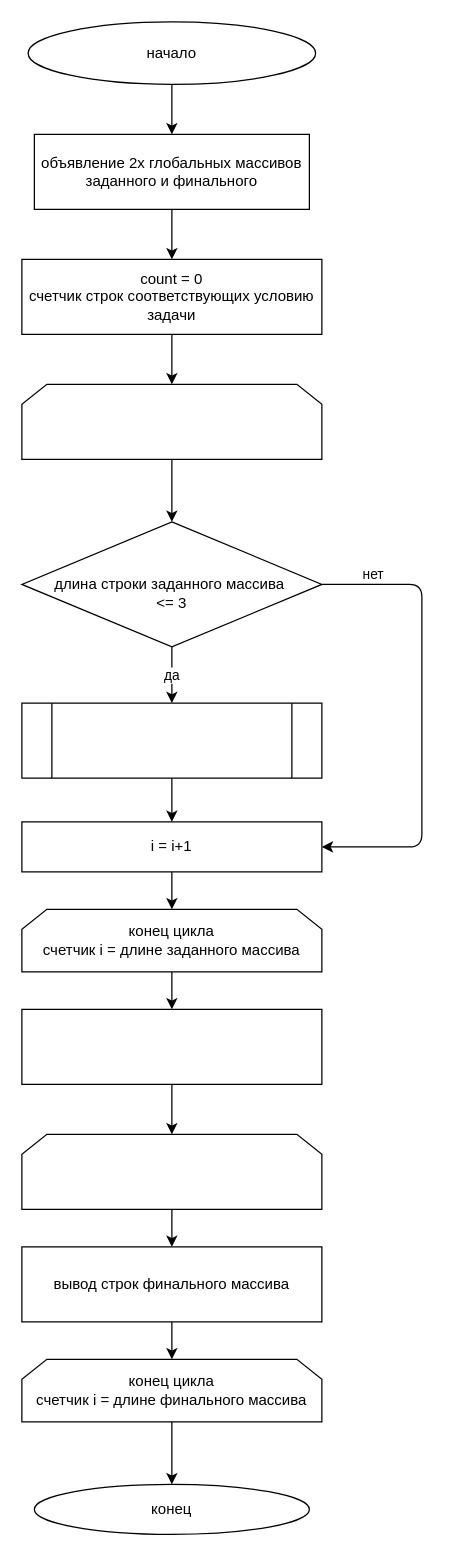
This 454x1556 diagram has some shape labels left out. Each missing label, with the box of its shape:
вызов метода: добавляем в финальный массив строку: (21, 702, 322, 778)
начало цикла от i = 0, до i < длина заданного массива: (21, 383, 322, 459)
начало цикла от i = 0, до i < длина финального массива: (21, 1133, 322, 1209)
приведение размера финального массива к нужному значению - убираем пустые строки: (21, 1008, 322, 1084)
